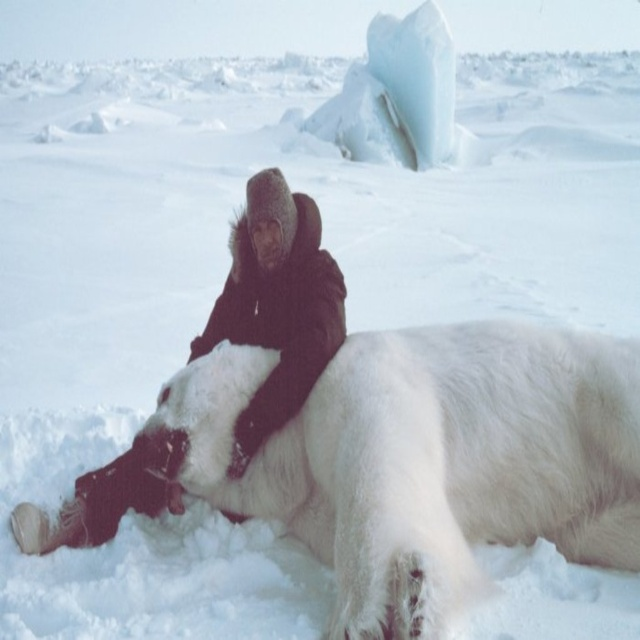Polar bear: (136, 317, 639, 639)
